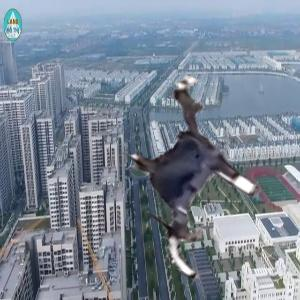drone: (91, 77, 288, 274)
